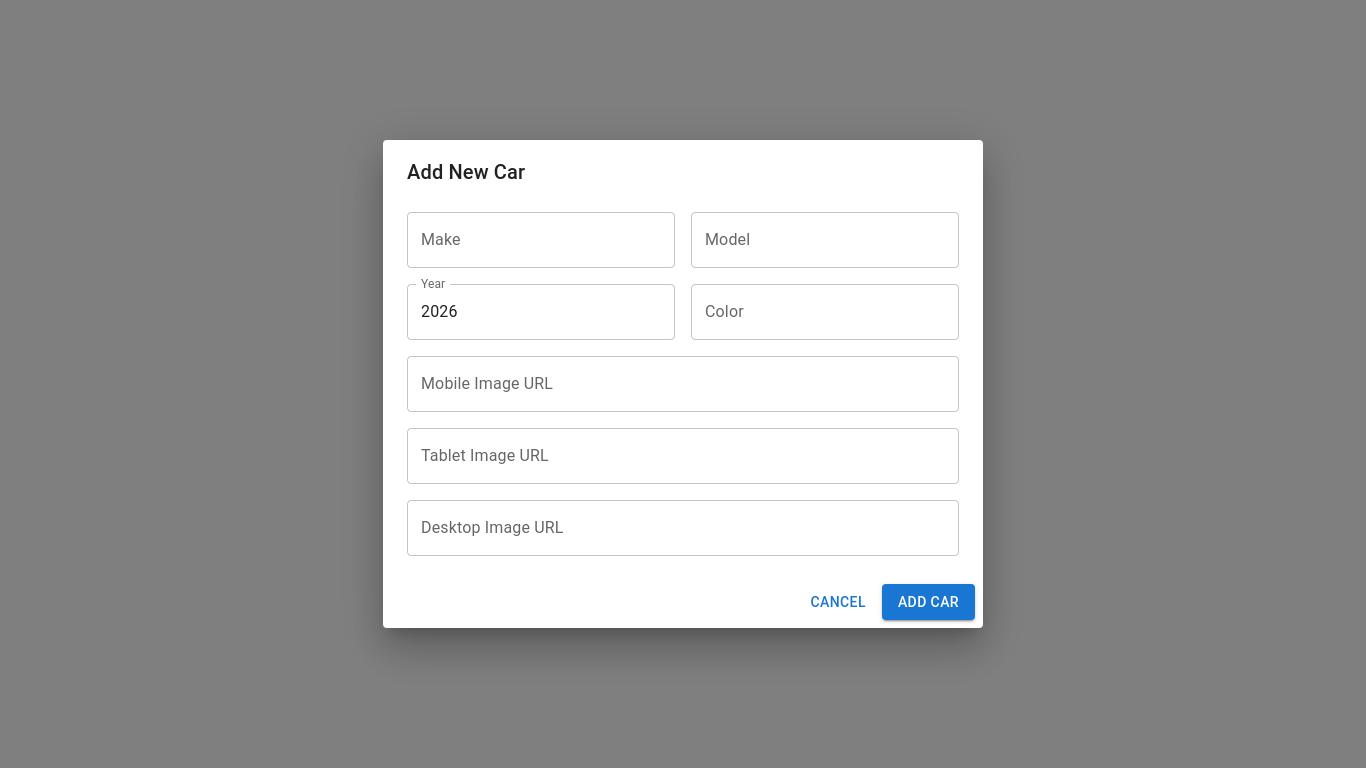
Test: AddCarForm › shows validation errors when submitting empty form
Step 1. Click the button "Add Car" → (928, 602), box x1=882 y1=584 x2=975 y2=620
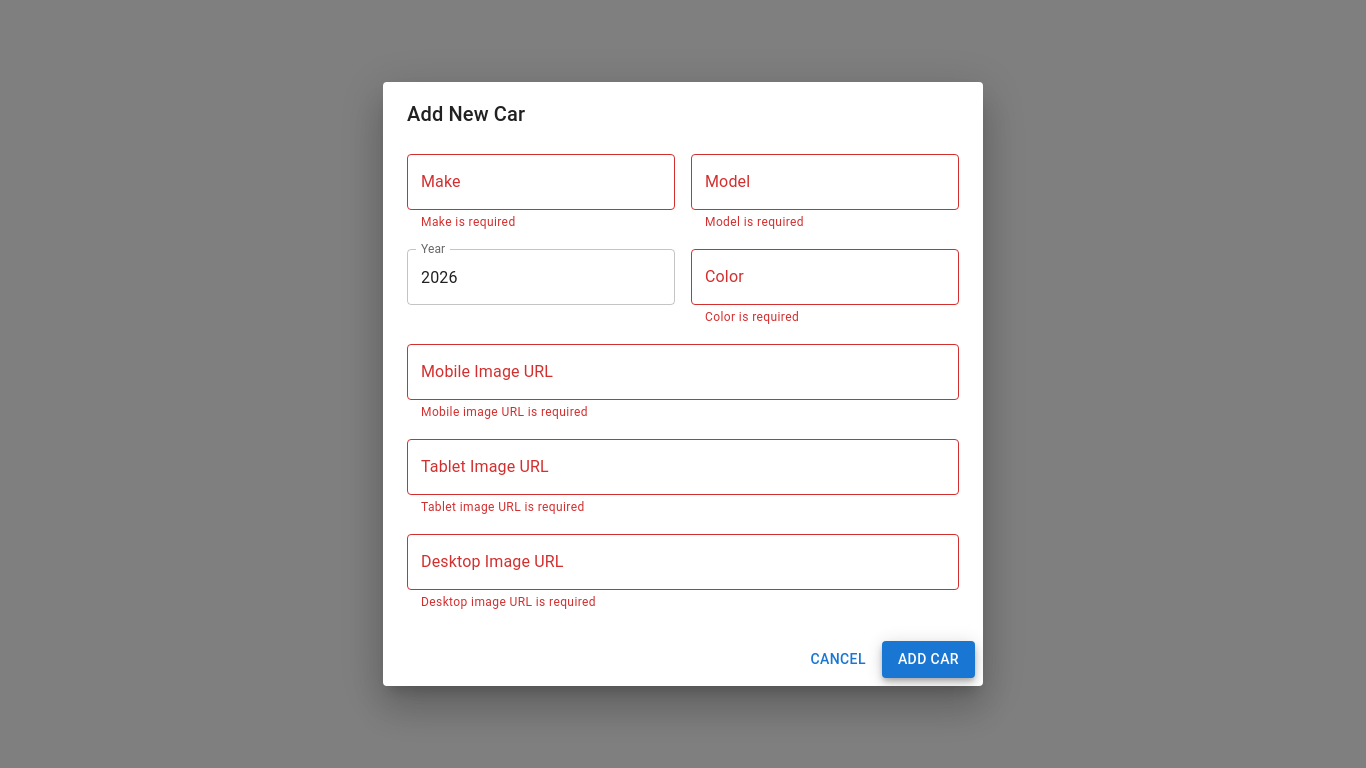
Result: the text "Make is required" is shown at x1=421 y1=216 x2=516 y2=230
Result: the text "Model is required" is shown at x1=705 y1=216 x2=804 y2=230
Result: the text "Color is required" is shown at x1=705 y1=310 x2=799 y2=324
